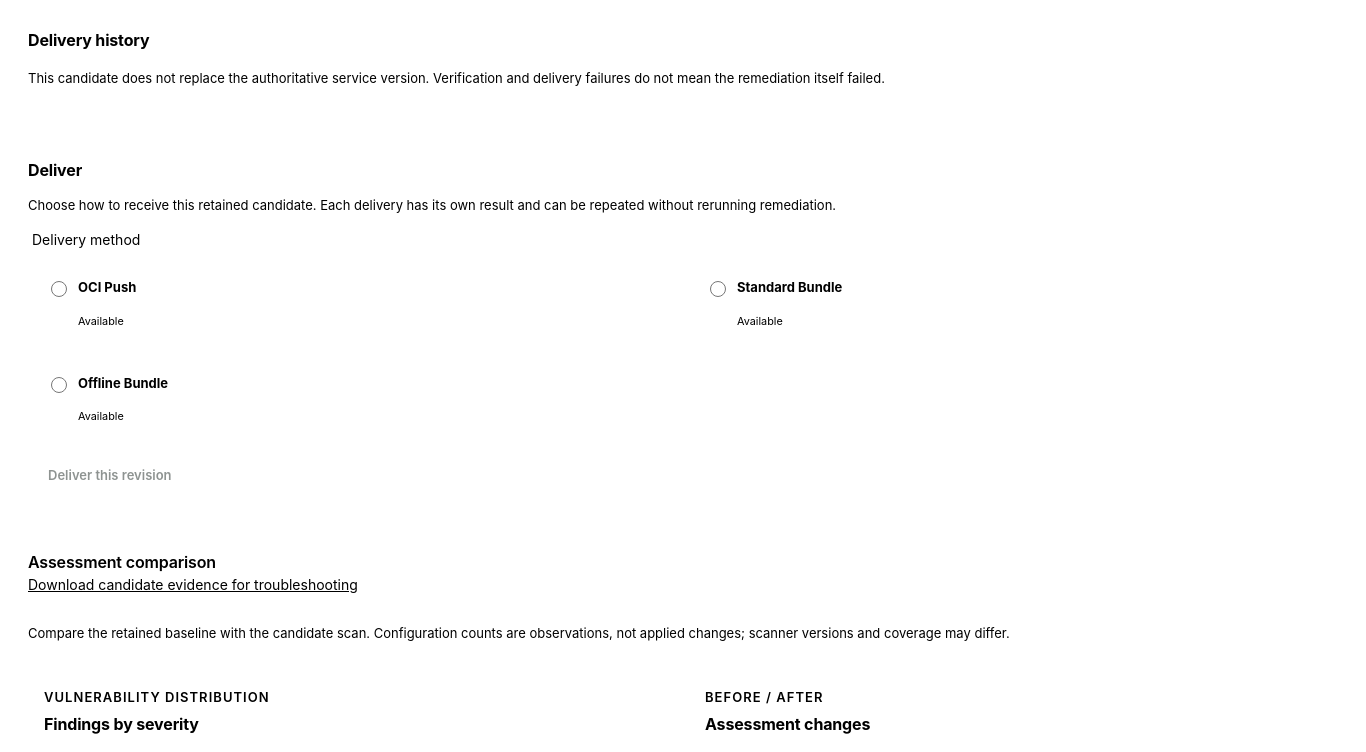
explains included documentation and configured signing for Offline Bundle
(page scrolled)
Click the radio button labelled "Offline Bundle Available".
click(59, 385)  # box [51,377,67,393]
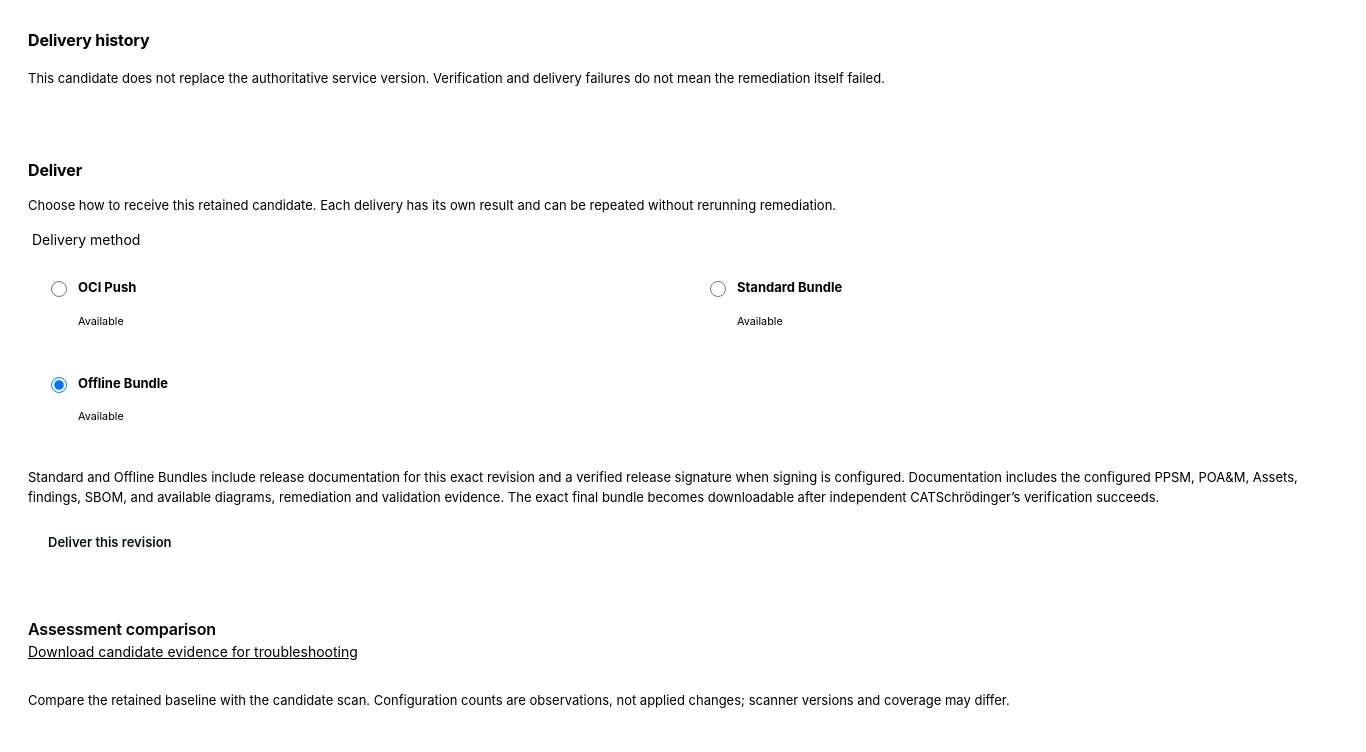
Now the text "Standard and Offline Bundles include" shows "verified release signature when signing is configured", box [28,468,1298,505]
Now the text "Standard and Offline Bundles include" shows "exact revision", box [28,468,1298,505]
